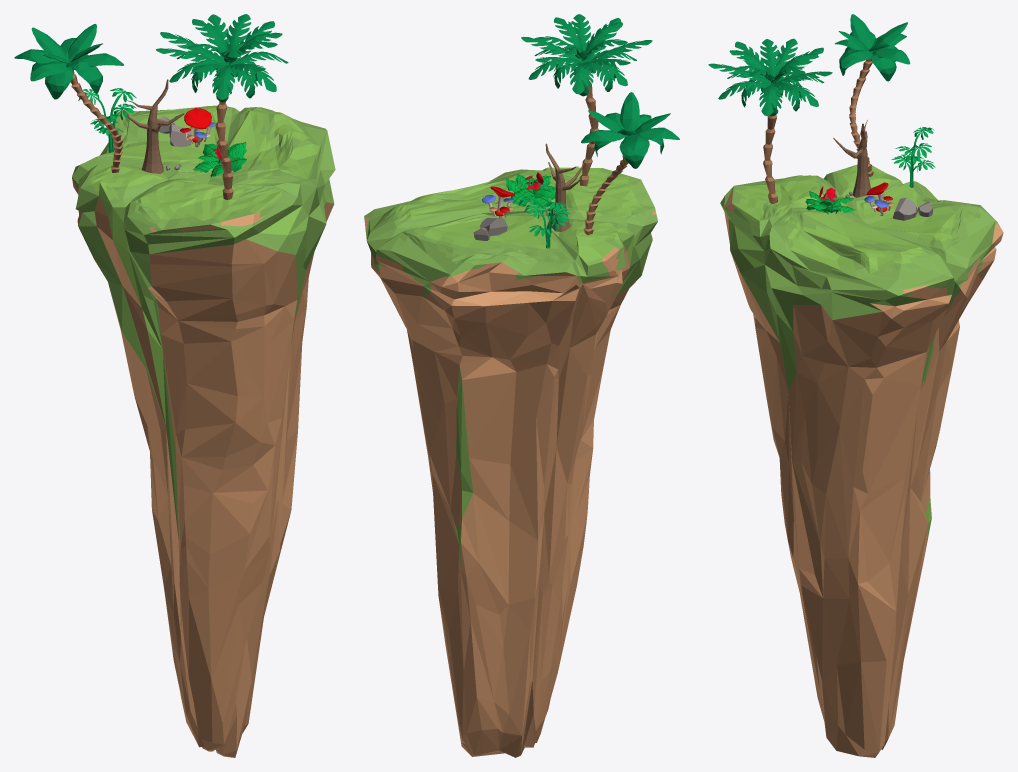
File: Rock6.fbx
3 renders of one model, left to right at view 1: azimuth 30°, elevation 25°; view 2: azimuth 150°, elevation 25°; view 3: azimuth 270°, elevation 25°, orthographic. The views are drawn at different scales.
Visible parts, largest first — view 1: rock2, palm2, palm1, Tree-body2, plant1, plant2, Mushroom1; view 2: rock2, palm2, palm1, plant1, plant2, Tree-body2, Stone.001, Mushroom1; view 3: rock2, palm2, palm1, plant2, Tree-body2, plant1, Stone.001, Mushroom1.
Boxes of the visible parts, x1,y1,x2,y2 form: rock2: (72,105,335,757); palm2: (156,14,288,199); palm1: (14,24,124,172); Tree-body2: (127,79,184,173); plant1: (193,142,246,177); plant2: (78,88,136,152); Mushroom1: (180,108,215,145); rock2: (364,167,657,757); palm2: (521,14,652,186); palm1: (581,92,679,234); plant1: (505,172,555,208); plant2: (518,195,570,248); Tree-body2: (545,143,583,231); Stone.001: (473,218,507,240); Mushroom1: (482,186,514,217); rock2: (720,165,1003,757); palm2: (708,38,832,203); palm1: (835,14,910,176); plant2: (891,127,935,187); Tree-body2: (833,120,871,197); plant1: (805,186,854,214); Stone.001: (893,197,932,220); Mushroom1: (864,182,894,214).
Bounding box in the file's own units: 393 × 894 × 355.
